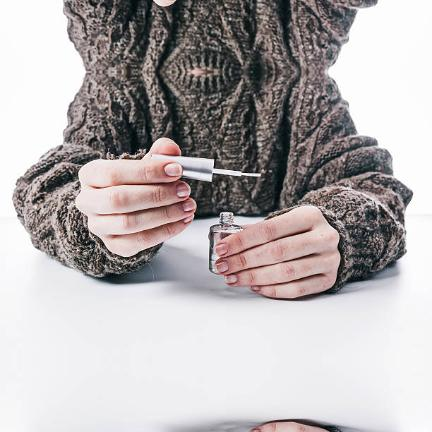Nail: (164, 163, 183, 176), (176, 182, 191, 197), (181, 199, 197, 212), (216, 261, 229, 273), (216, 243, 228, 255), (224, 275, 237, 284), (183, 216, 193, 223), (251, 285, 259, 291), (251, 429, 259, 432)
